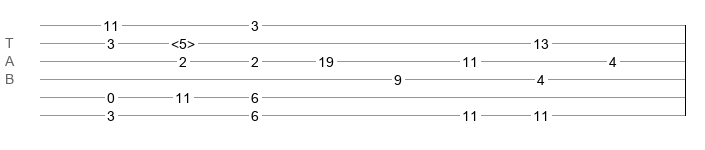0: (107, 90, 115, 100)
11: (103, 18, 119, 28), (175, 90, 191, 100), (462, 54, 478, 64), (462, 108, 478, 118), (533, 108, 549, 118)
13: (533, 36, 549, 46)
19: (318, 54, 334, 64)
2: (179, 54, 187, 64), (251, 54, 259, 64)
3: (107, 108, 115, 118), (107, 36, 115, 46), (251, 18, 259, 28)
4: (537, 72, 545, 82), (609, 54, 617, 64)
6: (251, 108, 259, 118), (251, 90, 259, 100)
9: (394, 72, 402, 82)
harmonic: (171, 36, 195, 46)
